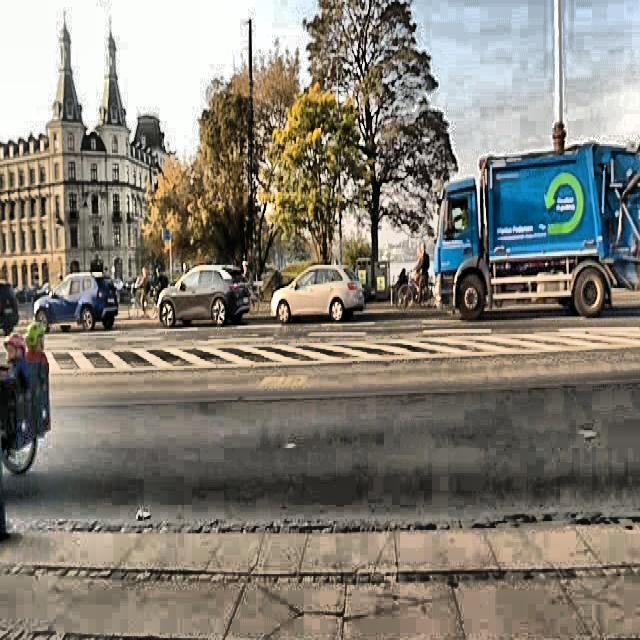ladcykel: (0, 327, 53, 501)
